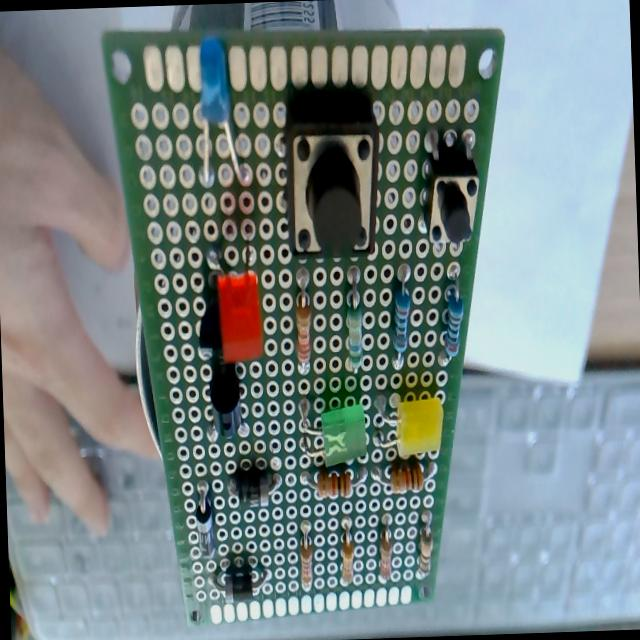diode: (211, 564, 269, 602), (226, 466, 281, 506), (193, 482, 215, 558)
led: (195, 35, 250, 193), (374, 394, 442, 468), (215, 266, 265, 364), (321, 400, 366, 468)
resistor: (438, 268, 468, 366), (388, 262, 414, 371), (304, 461, 368, 499), (375, 457, 437, 495), (343, 267, 365, 373), (294, 270, 314, 374), (415, 512, 435, 578), (338, 514, 355, 584), (298, 522, 314, 590), (378, 522, 393, 582)
switch: (282, 98, 382, 260), (424, 143, 481, 250)
transistor: (208, 362, 244, 439)
